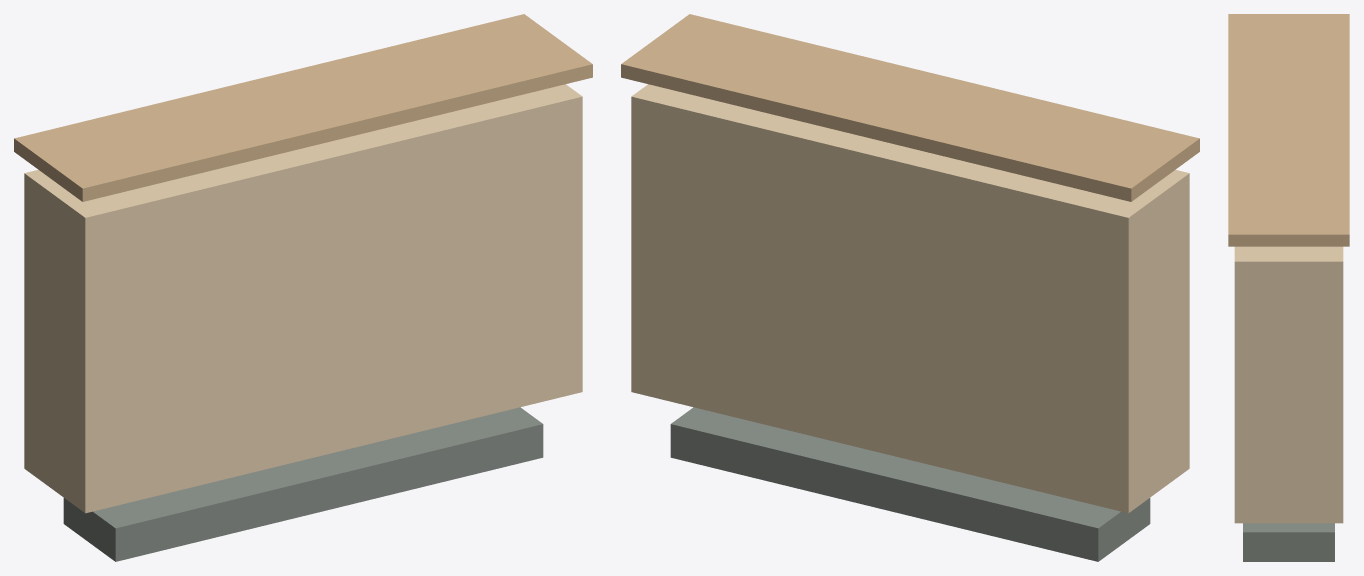
Rendered from shoe_cabinet.glb.
3 renders of one model, left to right at view 1: azimuth 30°, elevation 25°; view 2: azimuth 150°, elevation 25°; view 3: azimuth 270°, elevation 25°, orthographic. The views are drawn at different scales.
Parts seen in each view (by area): view 1: shoe_cabinet_oak_light_0, shoe_cabinet_oak_1, shoe_cabinet_dark_2; view 2: shoe_cabinet_oak_light_0, shoe_cabinet_oak_1, shoe_cabinet_dark_2; view 3: shoe_cabinet_oak_light_0, shoe_cabinet_oak_1, shoe_cabinet_dark_2.
Part boxes in pixels (x1,y1,x2,y2): shoe_cabinet_oak_light_0: [24, 84, 582, 513]; shoe_cabinet_oak_1: [14, 14, 592, 201]; shoe_cabinet_dark_2: [63, 407, 543, 561]; shoe_cabinet_oak_light_0: [631, 84, 1189, 513]; shoe_cabinet_oak_1: [621, 14, 1199, 201]; shoe_cabinet_dark_2: [670, 407, 1150, 561]; shoe_cabinet_oak_light_0: [1234, 246, 1343, 523]; shoe_cabinet_oak_1: [1228, 14, 1349, 246]; shoe_cabinet_dark_2: [1243, 523, 1334, 561].
Bounding box in the file's own units: 1.59 × 1.16 × 0.37.
